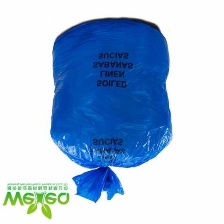plastic_bag: (47, 14, 183, 206)
